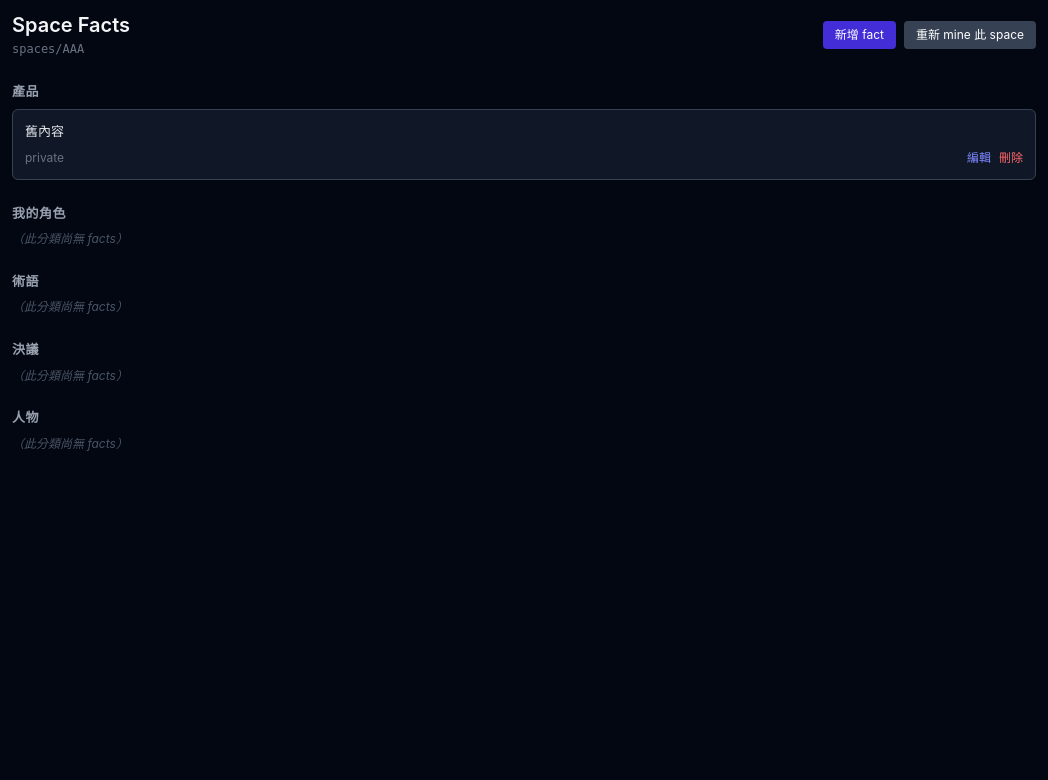
Test case: SpaceFactsDetailPage — edit fact › edit button switches row to edit mode
# Click the edit button
Click the button "編輯" at (979, 158), box [967,150,991,167]
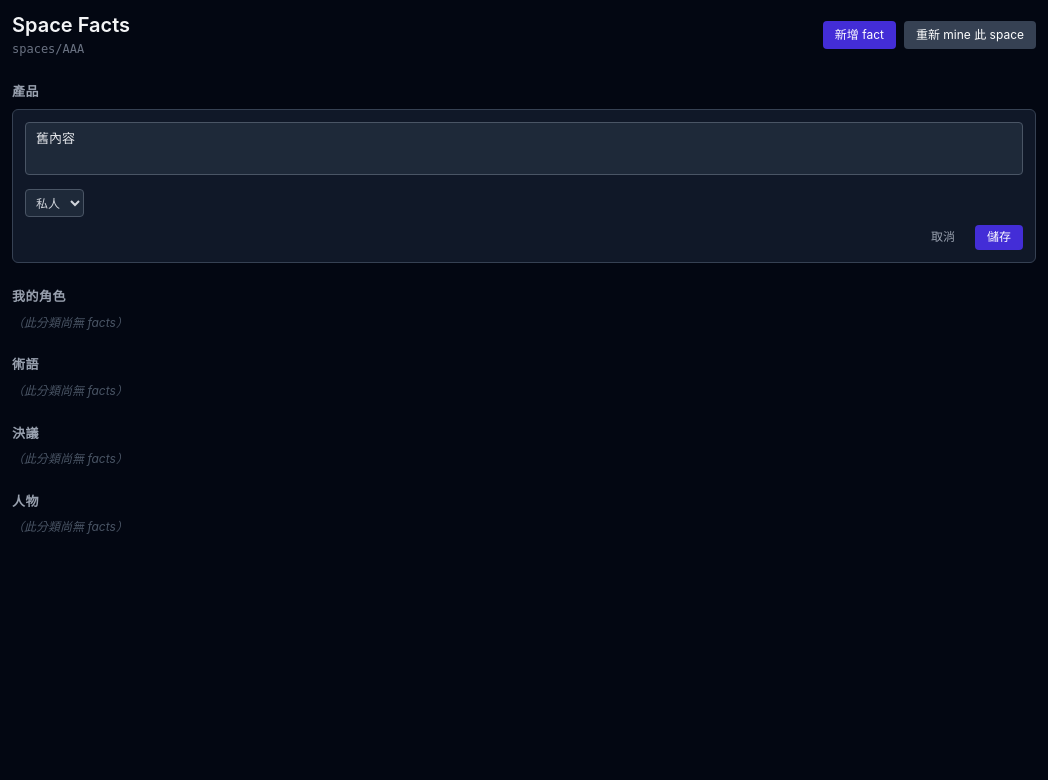
Now the text box holds "舊內容", box [25,122,1023,175]
